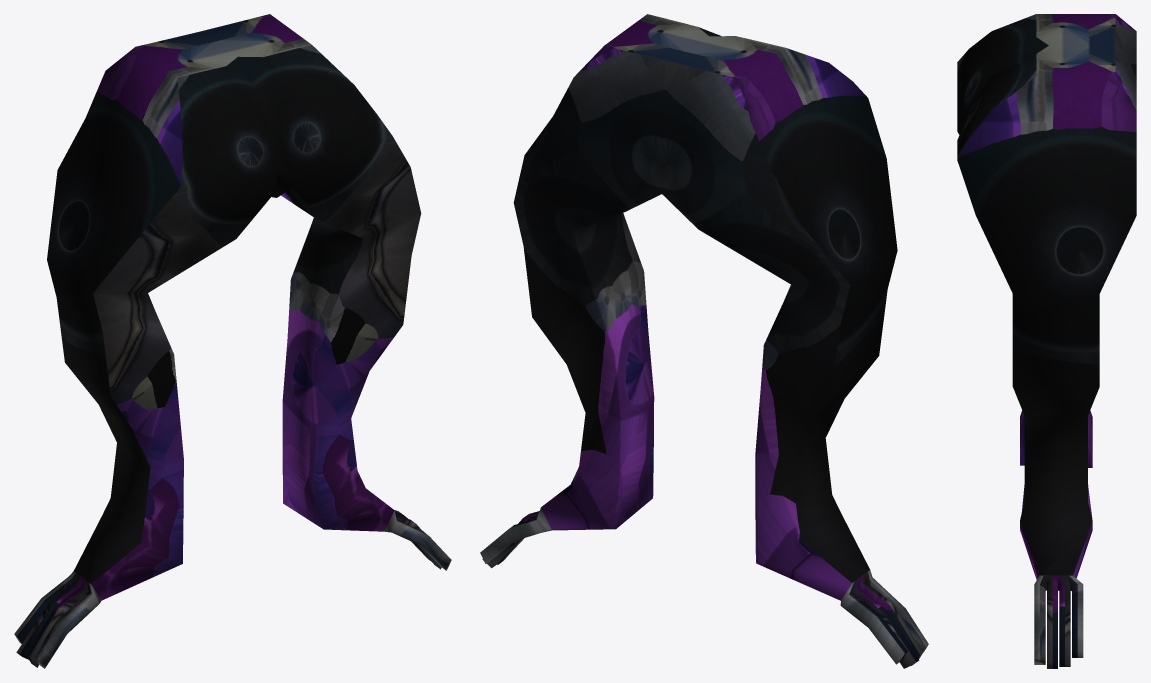
The model's file is FrogLeg_Final.fbx.
The picture shows the model from 3 angles, left to right: view 1: azimuth 30°, elevation 25°; view 2: azimuth 150°, elevation 25°; view 3: azimuth 270°, elevation 25°; orthographic projection. The views are drawn at different scales.
Visible parts, largest first — view 1: Cube; view 2: Cube; view 3: Cube.
Boxes of the visible parts, x1,y1,x2,y2 form: Cube: (14, 14, 451, 668); Cube: (480, 14, 928, 668); Cube: (957, 14, 1136, 668).
Bounding box in the file's own units: 413 × 528 × 162.
